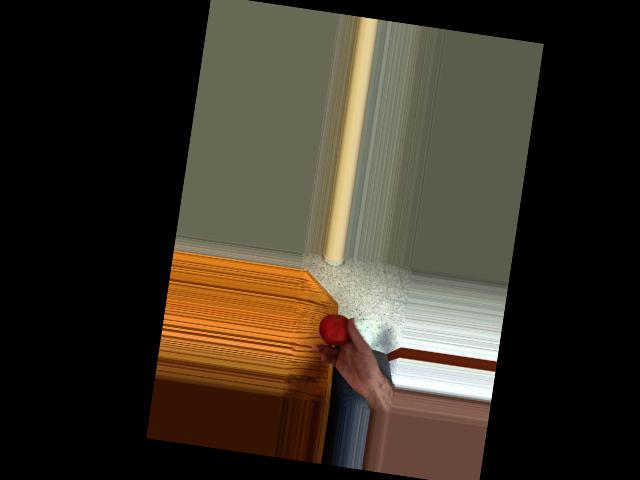apple: (315, 311, 357, 353)
